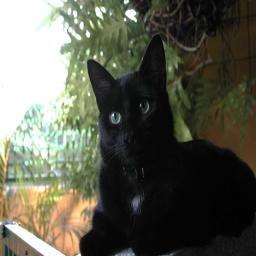catnose: (122, 128, 138, 148)
